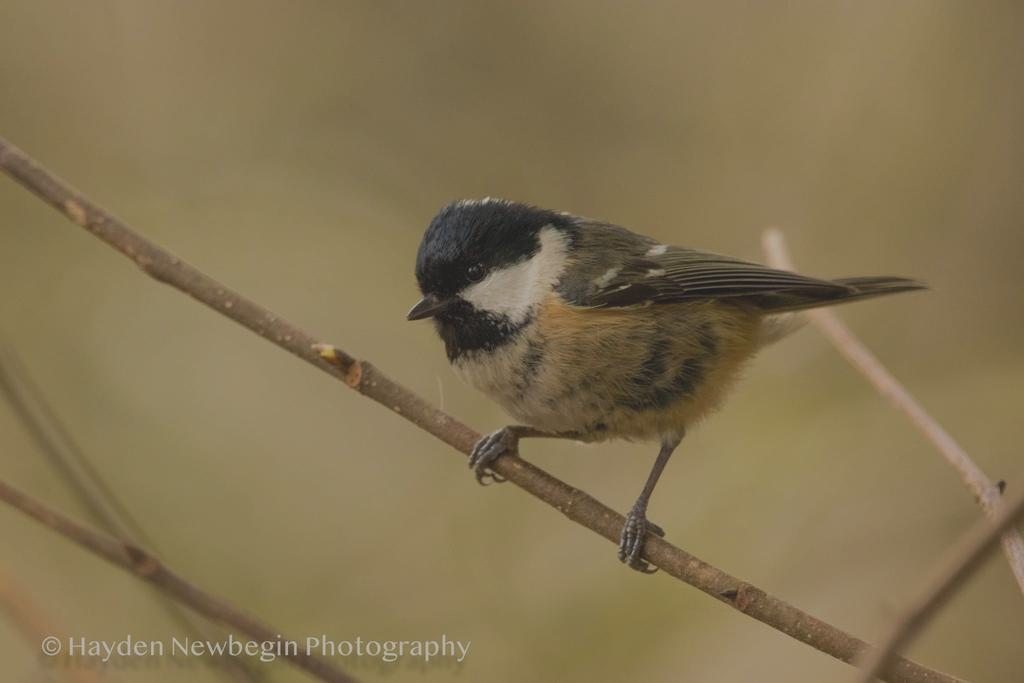PeriparusAter: (404, 195, 934, 575)
